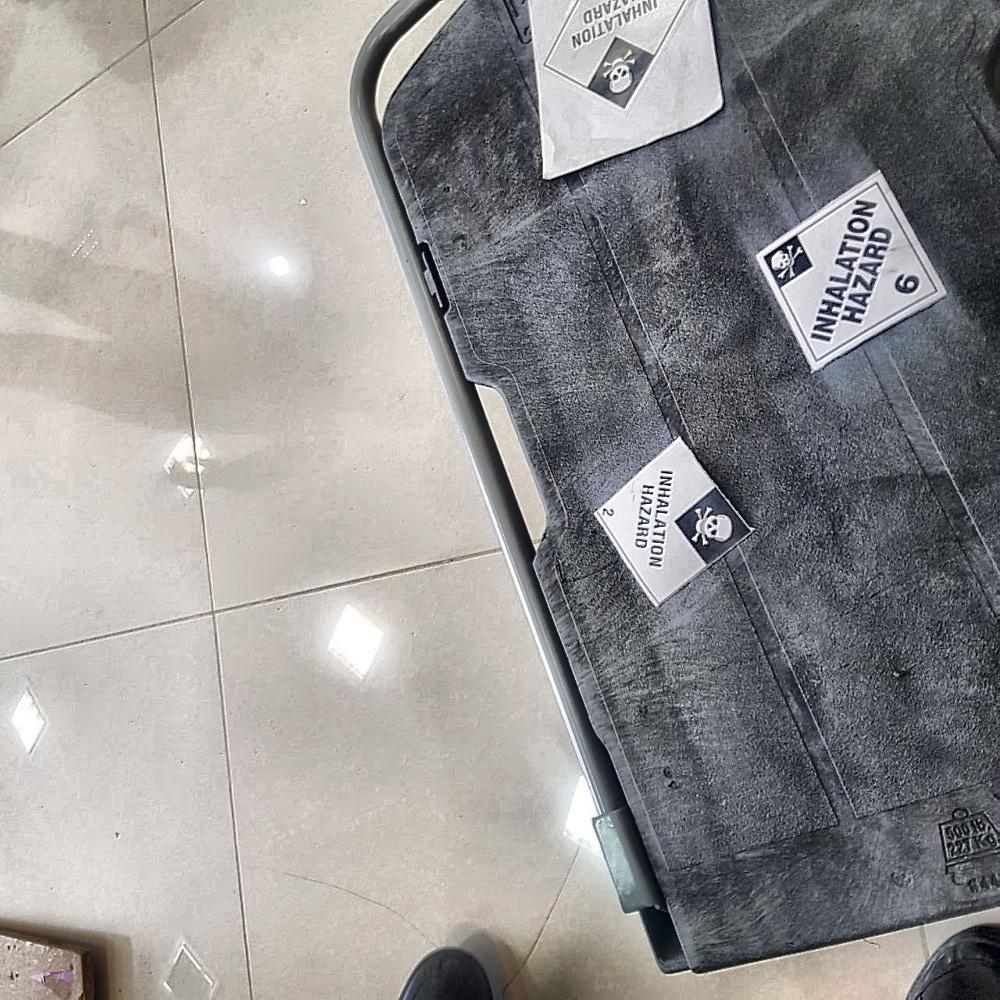poison: (752, 152, 957, 387), (595, 423, 752, 616), (538, 1, 678, 118)
